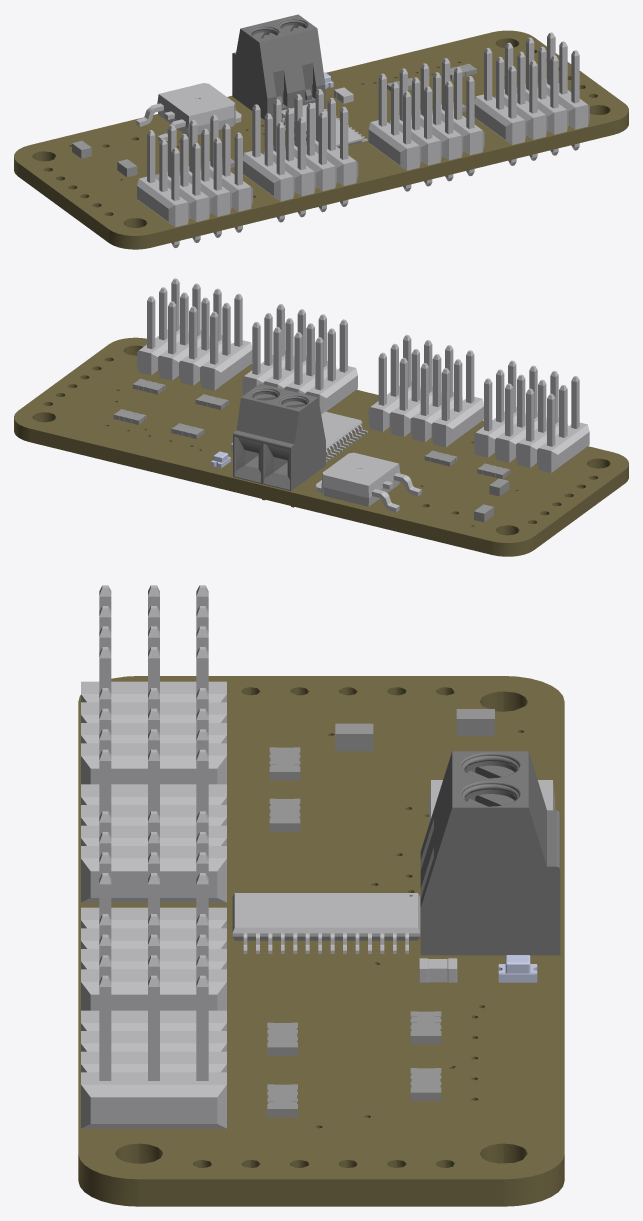
File: ada-815.glb
3 views of the same model, one above another, from view 1: azimuth 30°, elevation 25°; view 2: azimuth 150°, elevation 25°; view 3: azimuth 270°, elevation 25° (orthographic). The views are drawn at different scales.
Parts seen in each view (by area): view 1: 0.5833333333333334_0.5833333333333334_0.5833333333333334_0.8, 0.16666666666666666_0.16666666666666666_0.08333333333333333_, 0.25_0.25_0.25_0, 0.3333333333333333_0.3333333333333333_0.3333333333333333_0; view 2: 0.16666666666666666_0.16666666666666666_0.08333333333333333_, 0.5833333333333334_0.5833333333333334_0.5833333333333334_0.8, 0.25_0.25_0.25_0, 0.3333333333333333_0.3333333333333333_0.3333333333333333_0; view 3: 0.16666666666666666_0.16666666666666666_0.08333333333333333_, 0.5833333333333334_0.5833333333333334_0.5833333333333334_0.8, 0.25_0.25_0.25_0, 0.3333333333333333_0.3333333333333333_0.3333333333333333_0, 0.5833333333333334_0.6666666666666666_0.8333333333333334_0.
Part boxes in pixels (<box>): 0.5833333333333334_0.5833333333333334_0.5833333333333334_0.8: <box>136,32,589,247</box>; 0.16666666666666666_0.16666666666666666_0.08333333333333333_: <box>14,30,628,249</box>; 0.25_0.25_0.25_0: <box>232,14,325,120</box>; 0.3333333333333333_0.3333333333333333_0.3333333333333333_0: <box>72,63,517,179</box>; 0.16666666666666666_0.16666666666666666_0.08333333333333333_: <box>14,337,628,556</box>; 0.5833333333333334_0.5833333333333334_0.5833333333333334_0.8: <box>137,278,589,512</box>; 0.25_0.25_0.25_0: <box>233,383,325,507</box>; 0.3333333333333333_0.3333333333333333_0.3333333333333333_0: <box>113,378,510,522</box>; 0.16666666666666666_0.16666666666666666_0.08333333333333333_: <box>78,676,564,1206</box>; 0.5833333333333334_0.5833333333333334_0.5833333333333334_0.8: <box>81,585,555,1128</box>; 0.25_0.25_0.25_0: <box>420,751,560,955</box>; 0.3333333333333333_0.3333333333333333_0.3333333333333333_0: <box>267,709,494,1117</box>; 0.5833333333333334_0.6666666666666666_0.8333333333333334_0: <box>498,955,537,982</box>.
Size of the model in its own units: 6.22 by 1.21 by 2.54.
